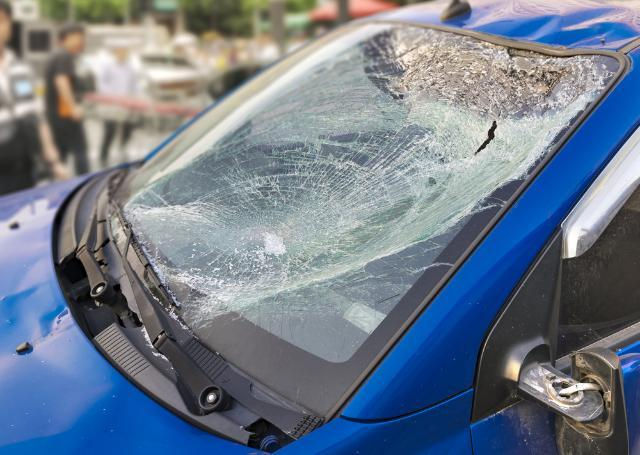dent: (0, 251, 113, 433), (466, 9, 635, 49)
glass shatter: (120, 22, 620, 417)
